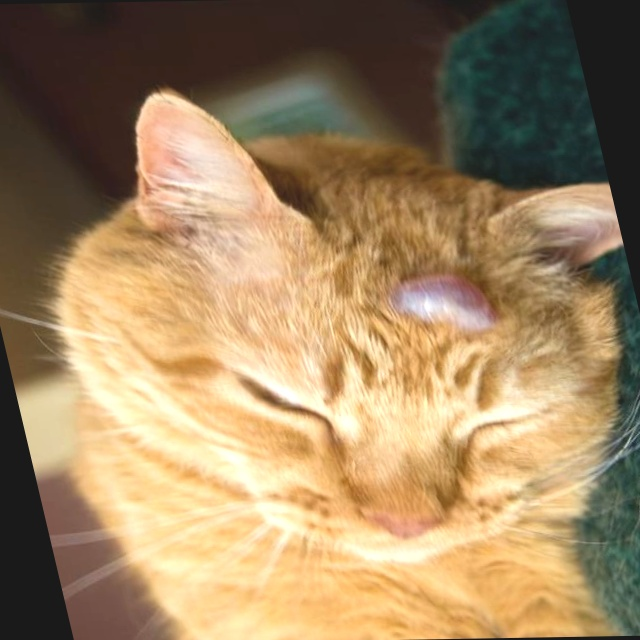lump_and_bump: (387, 275, 505, 328)
